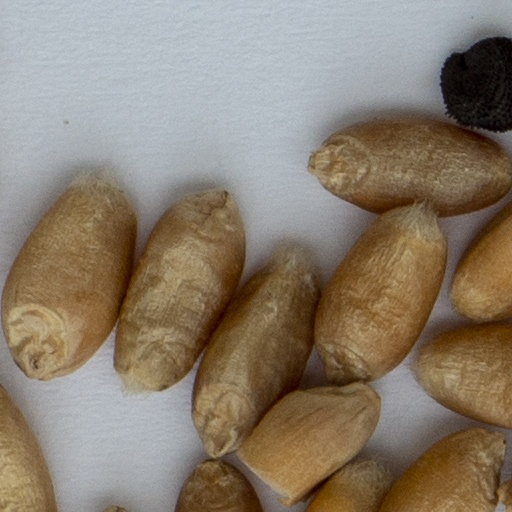Agrostemma-poly: (438, 35, 511, 132)
